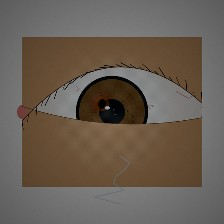foreign_body_visible: (106, 116, 152, 153)
